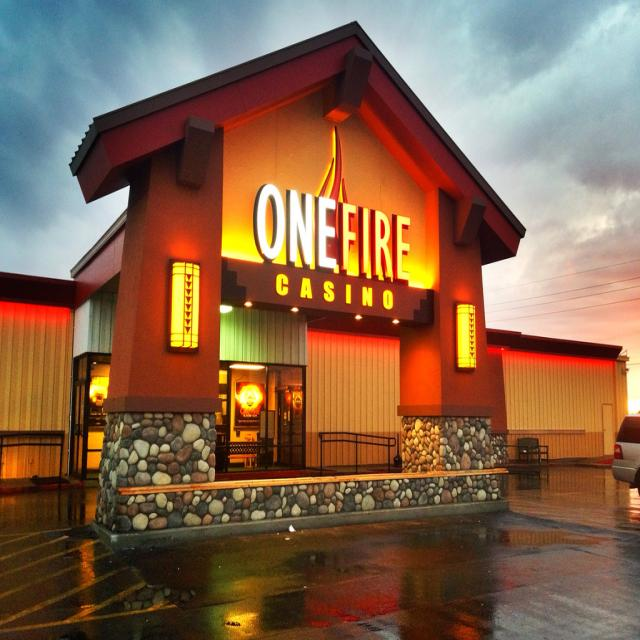no_fire: (152, 145, 477, 426)
